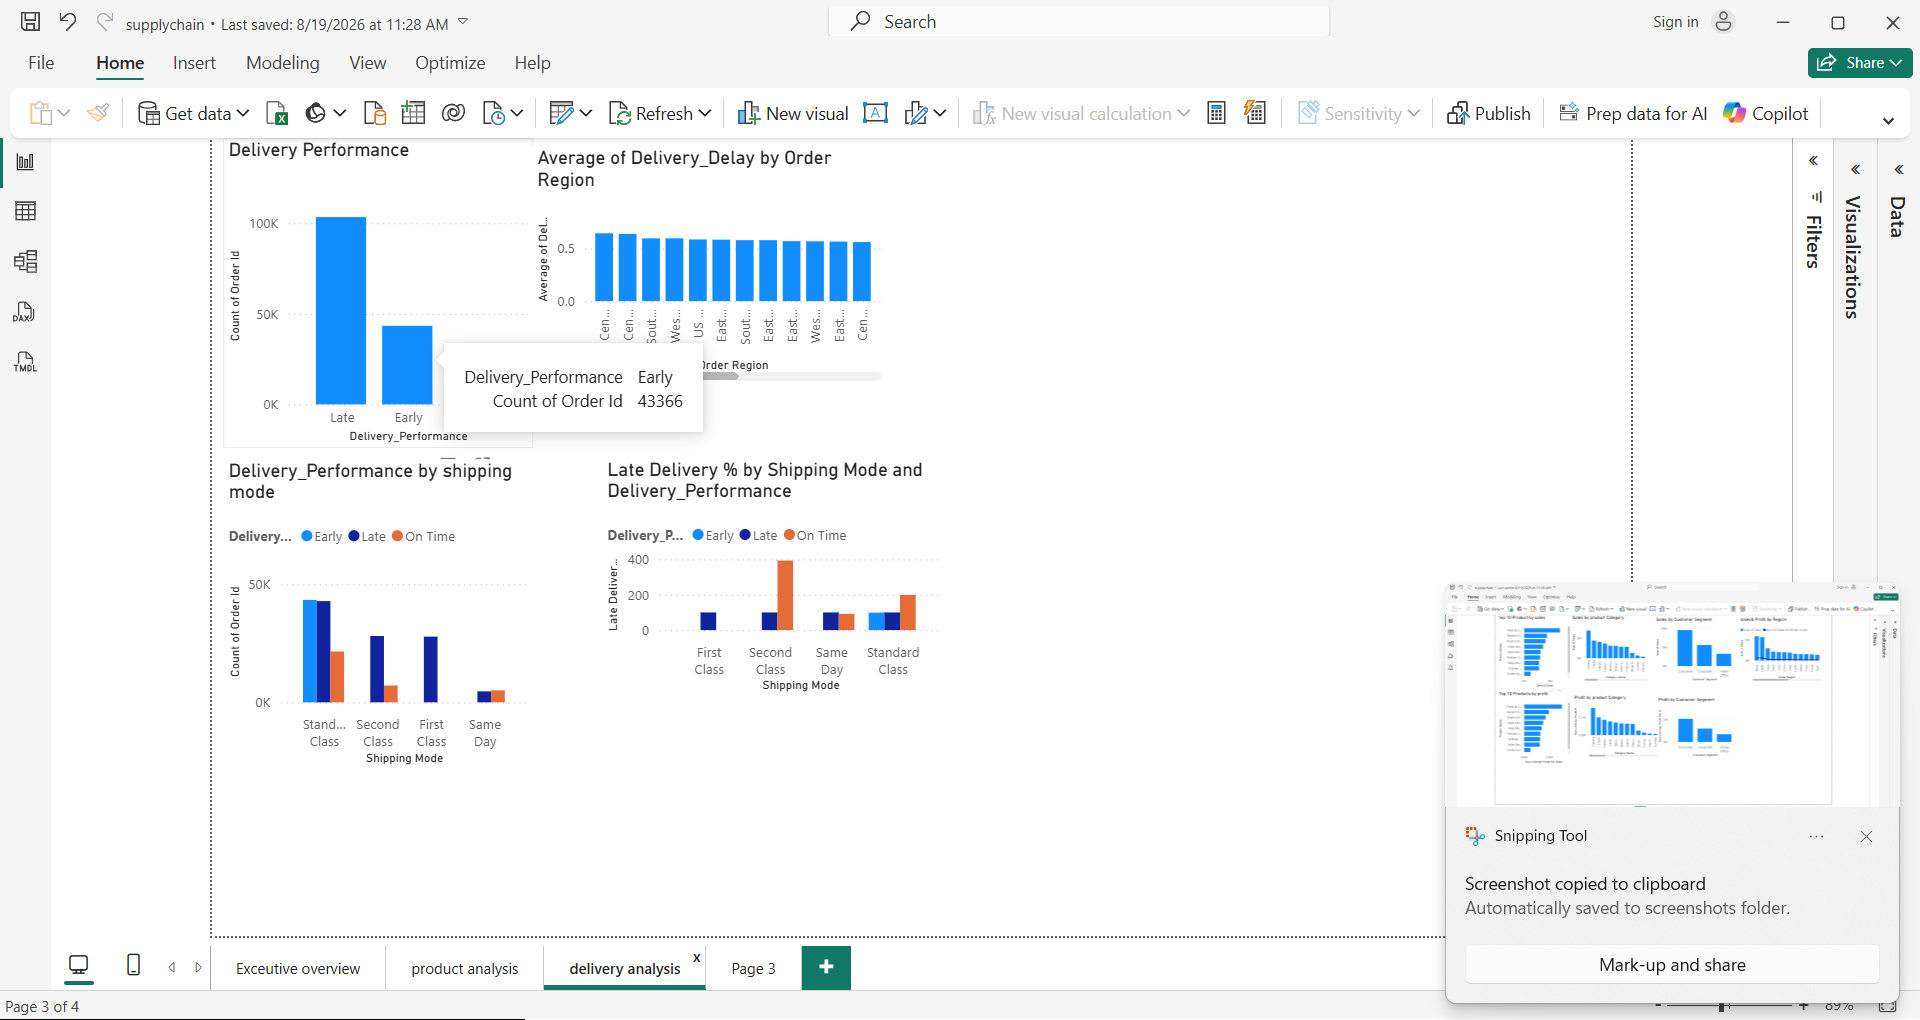

What the dashboard file says about the page in this screenshot:
{"tool":"powerbi","page":{"name":"delivery analysis","canvas":[1280,720],"ordinal":2},"visuals":[{"type":"clusteredColumnChart","title":" Delivery Performance","fields":{"Category":["DataCoSupplyChainDataset_Final.Delivery_Performance"],"Y":["CountNonNull(DataCoSupplyChainDataset_Final.Order Id)"]},"box":[10,0,280,280],"z":0},{"type":"clusteredColumnChart","title":" Delivery_Performance by shipping mode","fields":{"Category":["DataCoSupplyChainDataset_Final.Shipping Mode"],"Series":["DataCoSupplyChainDataset_Final.Delivery_Performance"],"Y":["CountNonNull(DataCoSupplyChainDataset_Final.Order Id)"]},"box":[10,290,280,280],"z":1000},{"type":"clusteredColumnChart","fields":{"Category":["DataCoSupplyChainDataset_Final.Order Region"],"Y":["Avg(DataCoSupplyChainDataset_Final.Delivery_Delay)"]},"box":[288,8,320,216],"z":2000},{"type":"clusteredColumnChart","fields":{"Category":["DataCoSupplyChainDataset_Final.Shipping Mode"],"Series":["DataCoSupplyChainDataset_Final.Delivery_Performance"],"Y":["DataCoSupplyChainDataset_Final.Late Delivery %"]},"box":[352,288,312,216],"z":3000}]}

Visuals, with their boxes on the page's 1280x720 design canvas (x1, y1, x2, y2). These are canvas units, not pixel positions in the 1920x1020 screenshot, which may show the page scaled, cropped or inside an application window:
" Delivery Performance" clusteredColumnChart: 10 0 290 280
" Delivery_Performance by shipping mode" clusteredColumnChart: 10 290 290 570
clusteredColumnChart - DataCoSupplyChainDataset_Final.Order Region x Avg(DataCoSupplyChainDataset_Final.Delivery_Delay): 288 8 608 224
clusteredColumnChart - DataCoSupplyChainDataset_Final.Shipping Mode x DataCoSupplyChainDataset_Final.Delivery_Performance: 352 288 664 504
